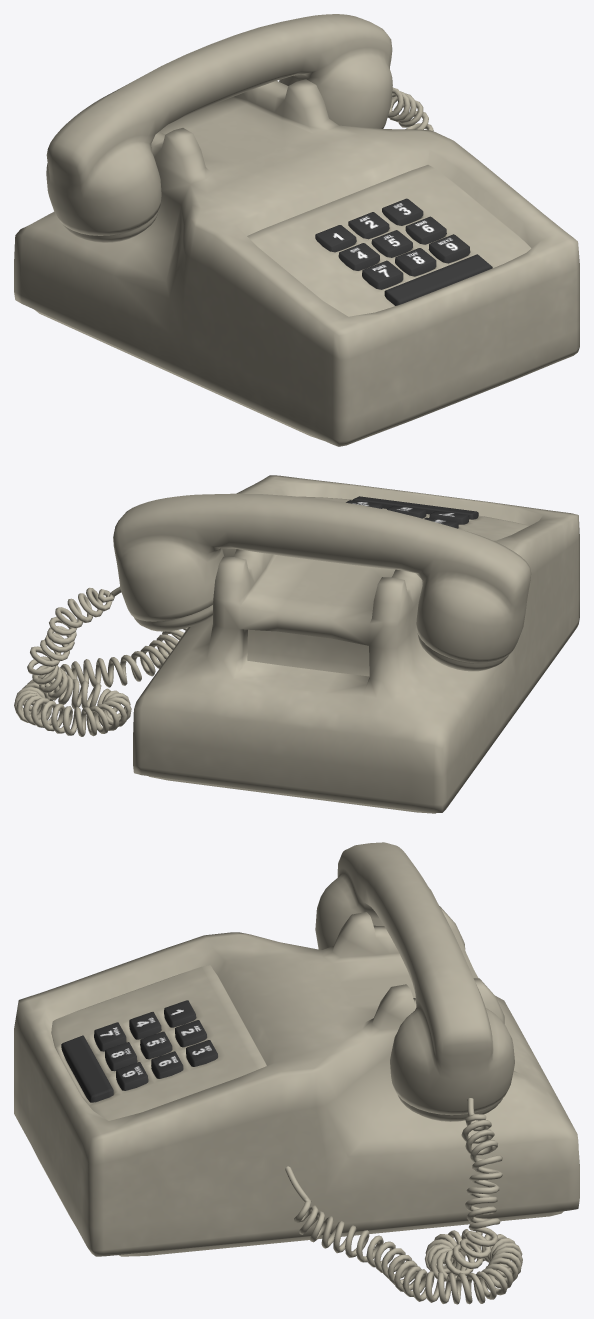
The model's file is phone.fbx.
The picture shows the model from 3 angles, top to bottom: view 1: azimuth 30°, elevation 25°; view 2: azimuth 150°, elevation 25°; view 3: azimuth 270°, elevation 25°; orthographic projection. The views are drawn at different scales.
Visible parts, largest first — view 1: phone; view 2: phone; view 3: phone.
Boxes of the visible parts, x1,y1,x2,y2 form: phone: (14,14,579,446); phone: (14,475,579,813); phone: (14,842,579,1304).
Bounding box in the file's own units: 37.32 × 19.67 × 37.44.
